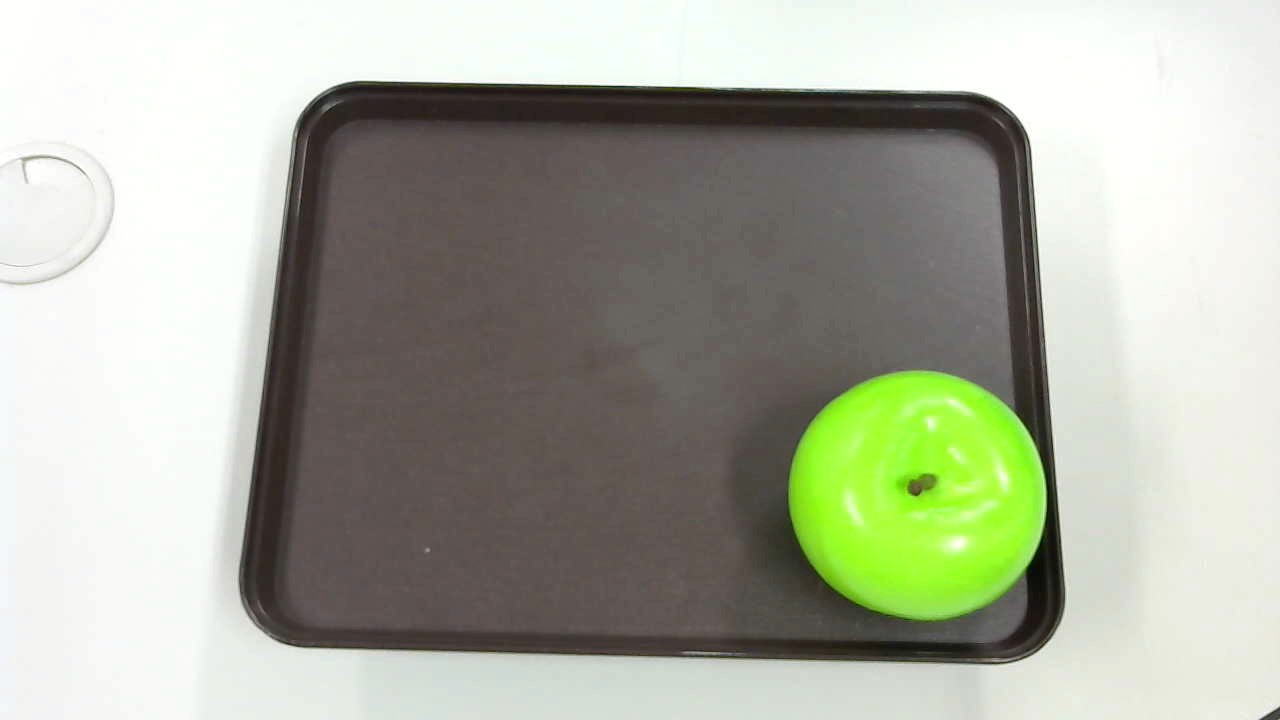green apple: (781, 363, 1054, 622)
